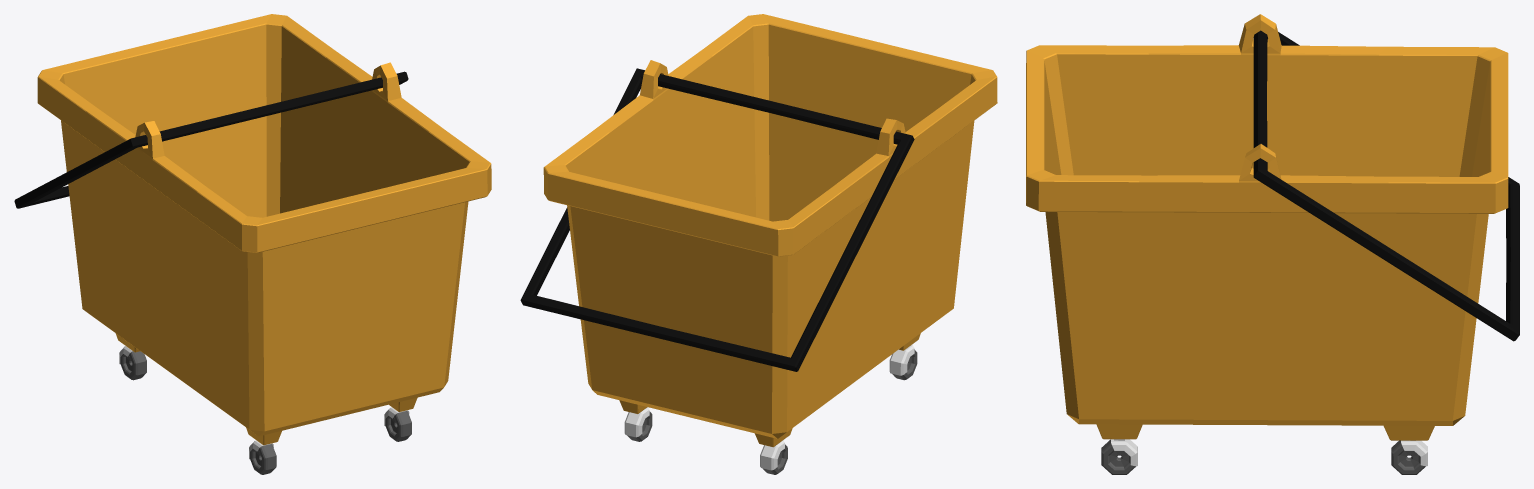
The model's file is mopbucketFIXED.fbx.
3 views of the same model, side by side, from view 1: azimuth 30°, elevation 25°; view 2: azimuth 150°, elevation 25°; view 3: azimuth 270°, elevation 25° (orthographic). The views are drawn at different scales.
Parts seen in each view (by area): view 1: Mop Bucket; view 2: Mop Bucket; view 3: Mop Bucket.
Part boxes in pixels (bbox=[...]): Mop Bucket: bbox=[14, 14, 491, 474]; Mop Bucket: bbox=[520, 14, 997, 474]; Mop Bucket: bbox=[1026, 14, 1519, 474].
Bounding box in the file's own units: 248 × 272 × 343.
